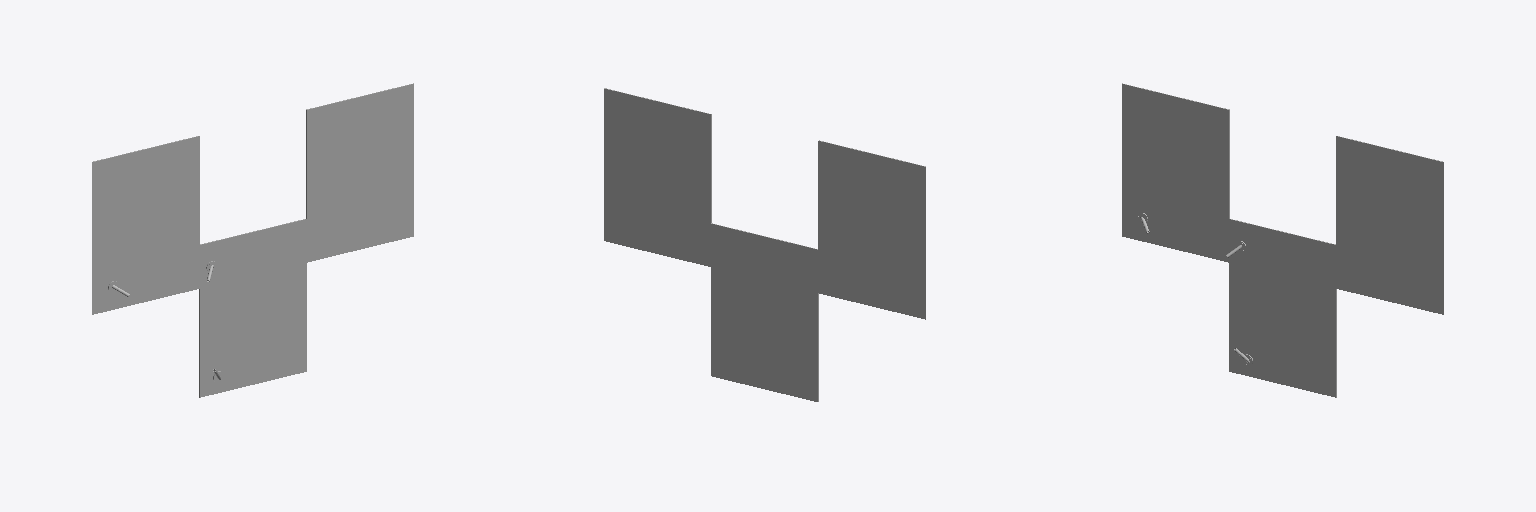
File: starting_material.obj
The picture shows the model from 3 angles: view 1: azimuth 30°, elevation 25°; view 2: azimuth 150°, elevation 25°; view 3: azimuth 330°, elevation 25°; orthographic projection.
Bounding box in the file's own units: 3.09 × 2.4 × 0.1135.